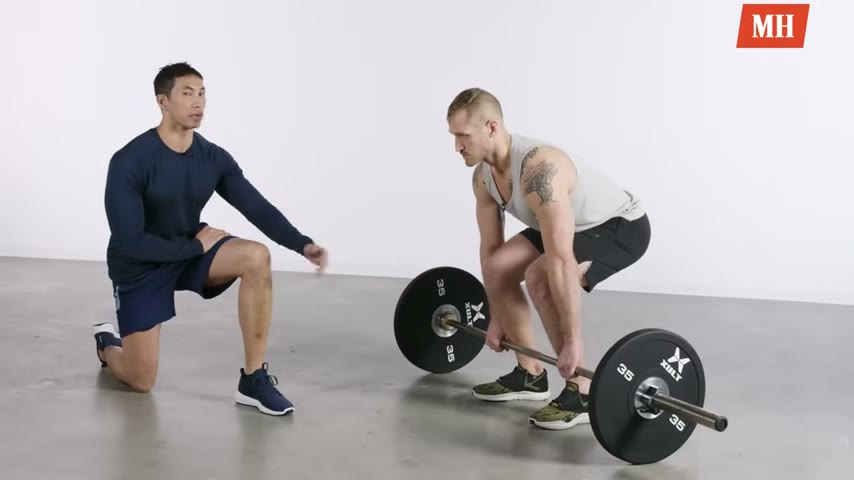barbell_plate_side: (385, 266, 469, 451), (639, 313, 732, 469)
